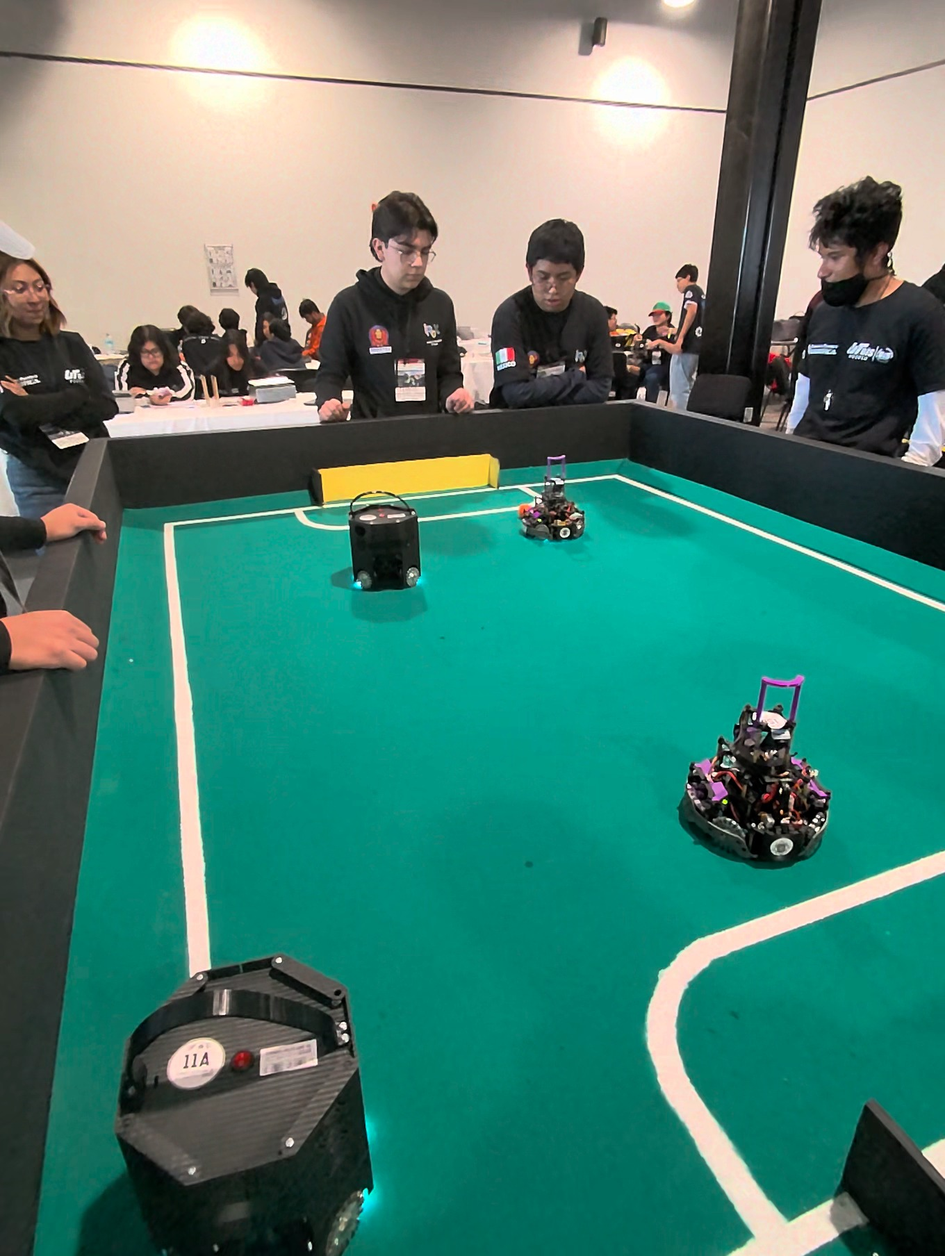Robot: (95, 952, 433, 1252), (688, 691, 839, 878), (344, 489, 425, 625), (515, 479, 587, 550)
pelota: (505, 491, 535, 521)
